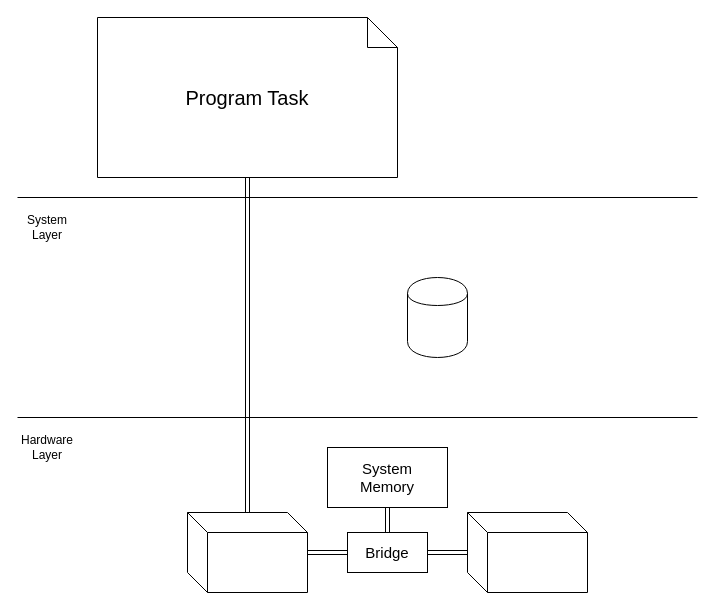
The diagram is 716 pixels wide and 610 high, and some of its shapes have lost their labels. The shapes that lost their labels are listed below. From the top down, each one's centre as x and y in pixels, then its label:
At [247,552]: "Host CPU".
At [527,552]: "QPU".
